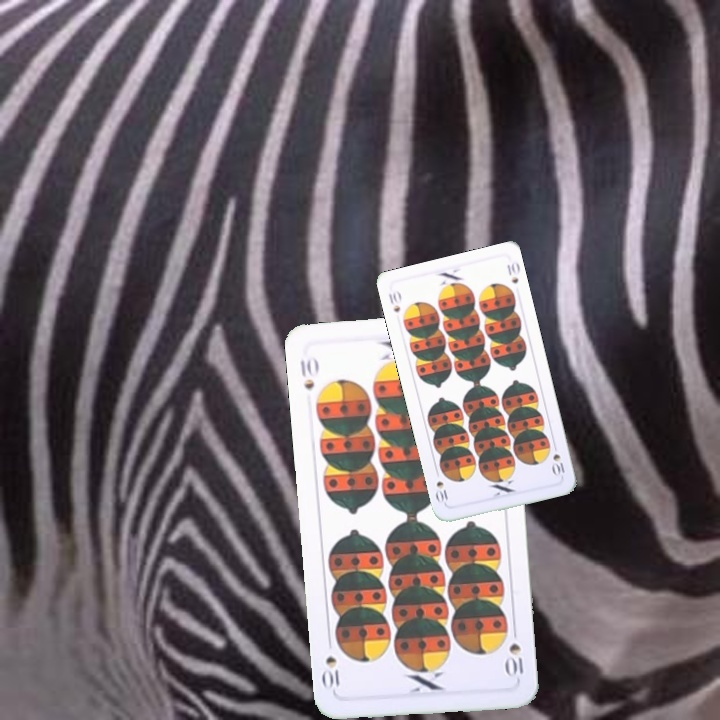S10: (503, 622, 527, 682), (296, 353, 320, 392), (548, 450, 567, 479), (385, 287, 404, 315)
